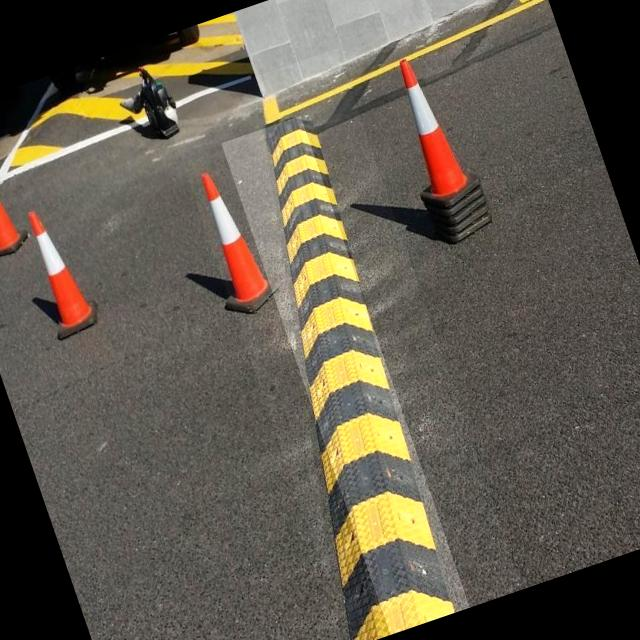bump: (220, 116, 470, 634)
